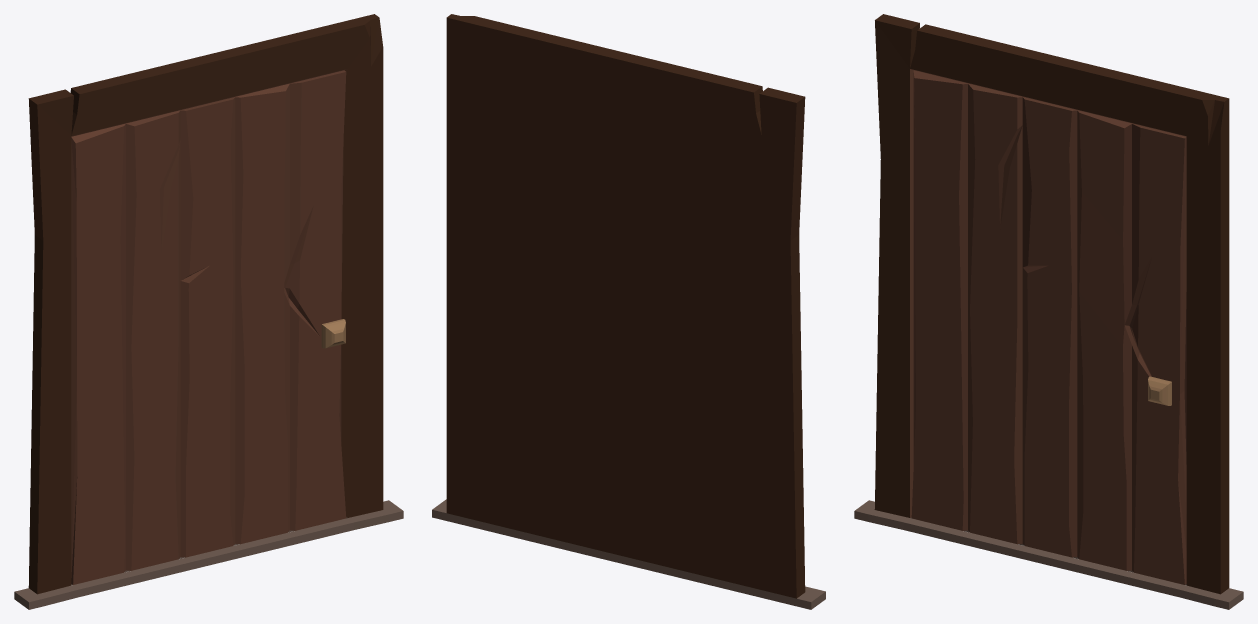
File: kapi_rv3.fbx
3 renders of one model, left to right at view 1: azimuth 30°, elevation 25°; view 2: azimuth 150°, elevation 25°; view 3: azimuth 330°, elevation 25°, orthographic.
Visible parts, largest first — view 1: Cube.020, Cube.040; view 2: Cube.040; view 3: Cube.020, Cube.040.
Boxes of the visible parts, x1,y1,x2,y2 form: Cube.020: (71,69,347,584); Cube.040: (14,14,403,609); Cube.040: (432,14,825,609); Cube.020: (910,69,1186,584); Cube.040: (854,14,1243,609).
Bounding box in the file's own units: 2.9 × 3.68 × 0.2566.
